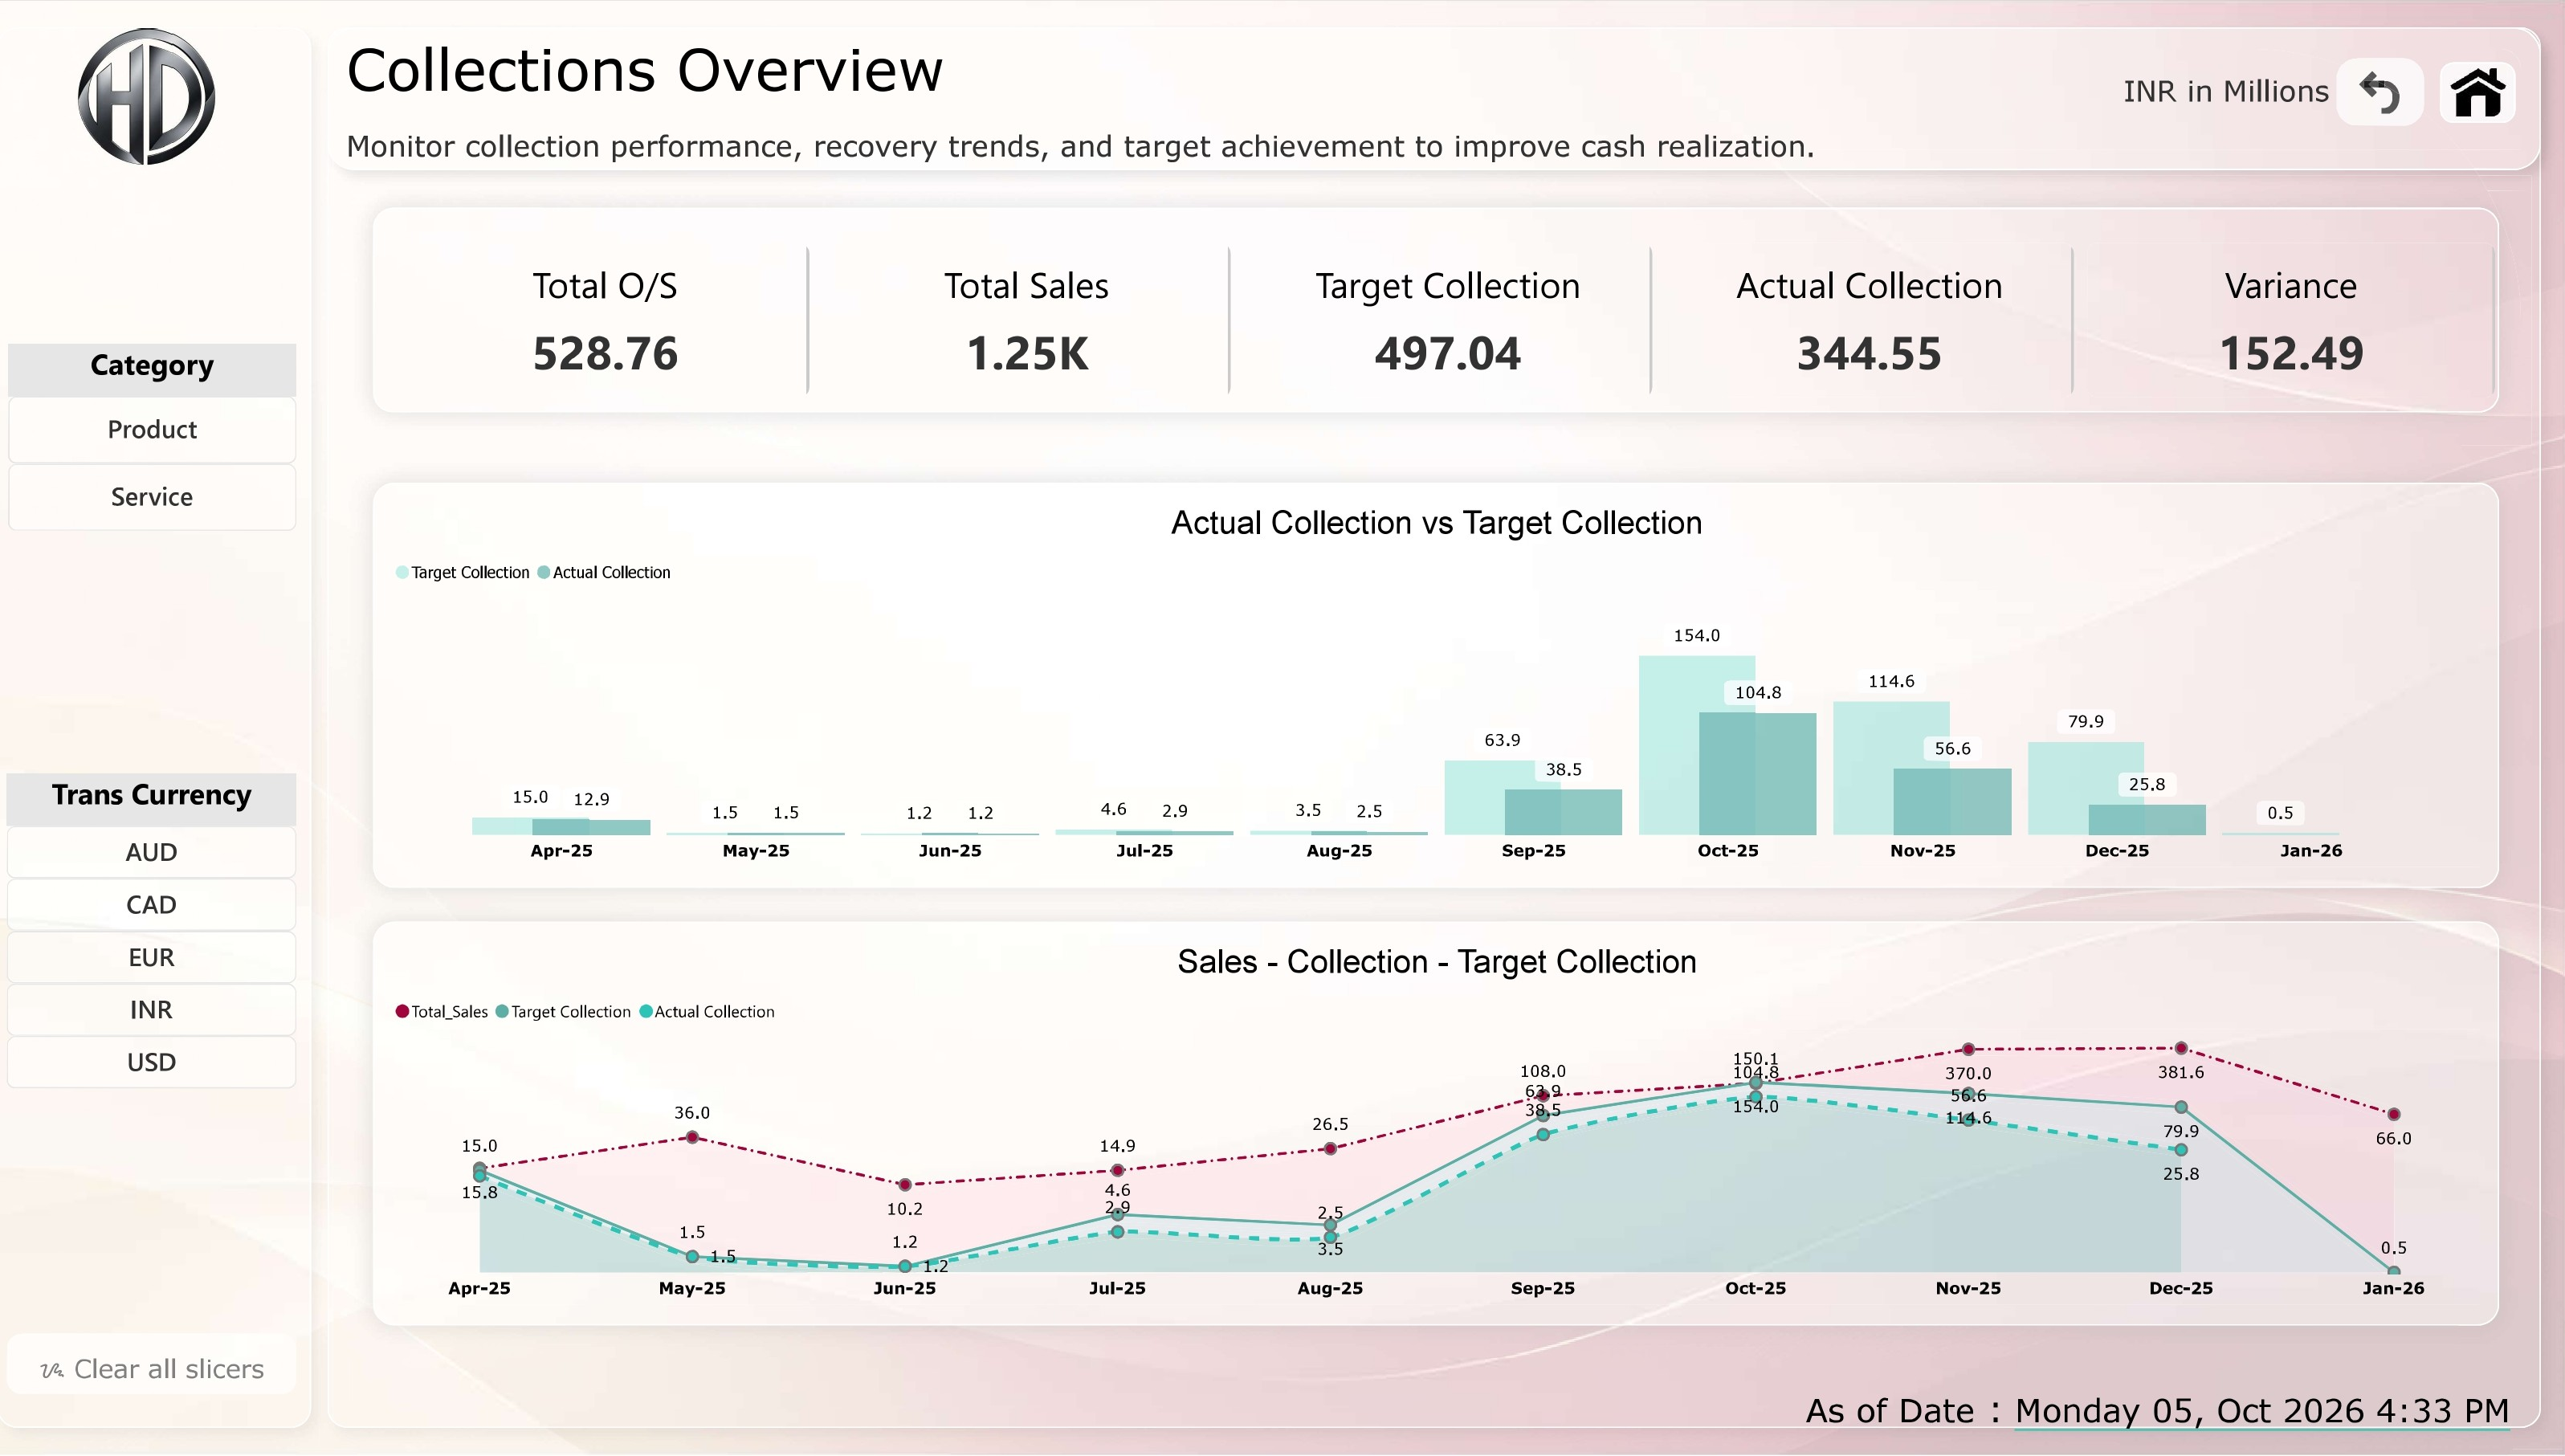

The page's visual inventory and layout, read from the dashboard file:
{"tool":"powerbi","page":{"name":"Collections Overview","canvas":[1920,1080],"ordinal":3},"visuals":[{"type":"shape","title":"Head bg","box":[256,20,1644,1040],"z":1000},{"type":"shape","title":"Head bg","box":[256,20,1644,106],"z":2000},{"type":"shape","box":[11.1,20.3,232.7,1039.6],"z":2500},{"type":"textbox","box":[270,24,1330,130],"z":3000},{"type":"image","box":[1809.5,30.9,86,75],"z":4000},{"type":"actionButton","box":[1747.5,42.9,65,50],"z":5000},{"type":"textbox","box":[1575.5,34.9,188,54],"z":6000},{"type":"textbox","box":[1354,1010,536,54],"z":7000},{"type":"lineChart","title":"Sales - Collection - Target Collection","fields":{"Category":["Calendar.EndOfMonthDisplay"],"Y":["Collection Measure.Total_Sales","Collection Measure.Target Collection","Collection Measure.Actual Collection"]},"box":[289.5,684.1,1579.8,300.4],"z":8000},{"type":"lineClusteredColumnComboChart","title":"Actual Collection vs Target Collection","fields":{"Category":["Calendar.EndOfMonthDisplay"],"Y":["Collection Measure.Target Collection","Collection Measure.Actual Collection"]},"box":[289.5,358.3,1579.8,300.4],"z":9000},{"type":"cardVisual","title":"Total Receivables","fields":{"Data":["Collection Measure.Total_Outstanding_CurrentMonth","Collection Measure.Total_Sales","Collection Measure.Target Collection","Collection Measure.Actual Collection","Collection Measure.Collecton_Variance"]},"box":[289.5,153.8,1579.8,152],"z":10000},{"type":"image","box":[0,0,244,141.2],"z":11000},{"type":"advancedSlicerVisual","fields":{"Values":["Base file.Category"]},"box":[18.7,254.8,214.2,140.3],"z":12000},{"type":"advancedSlicerVisual","fields":{"Values":["Base file.Transaction Currency"]},"box":[18.3,573.8,215,238],"z":13000},{"type":"actionButton","box":[18.5,990.5,214.6,45],"z":14000}]}

Visuals, with their boxes in screenshot pixels (x1, y1, x2, y2), scaled from the page's 1920x1080 canvas onto the 2565x1456 screenshot:
"Head bg" shape: locate(342, 27, 2538, 1429)
"Head bg" shape: locate(342, 27, 2538, 170)
shape: locate(14, 27, 326, 1429)
textbox: locate(361, 32, 2138, 208)
image: locate(2417, 42, 2532, 143)
actionButton: locate(2335, 58, 2421, 125)
textbox: locate(2105, 47, 2356, 120)
textbox: locate(1809, 1361, 2525, 1434)
"Sales - Collection - Target Collection" lineChart: locate(387, 922, 2498, 1328)
"Actual Collection vs Target Collection" lineClusteredColumnComboChart: locate(387, 483, 2498, 888)
"Total Receivables" cardVisual: locate(387, 207, 2498, 412)
image: locate(0, 0, 326, 190)
advancedSlicerVisual - Base file.Category: locate(25, 344, 311, 532)
advancedSlicerVisual - Base file.Transaction Currency: locate(24, 773, 312, 1095)
actionButton: locate(25, 1336, 312, 1396)
